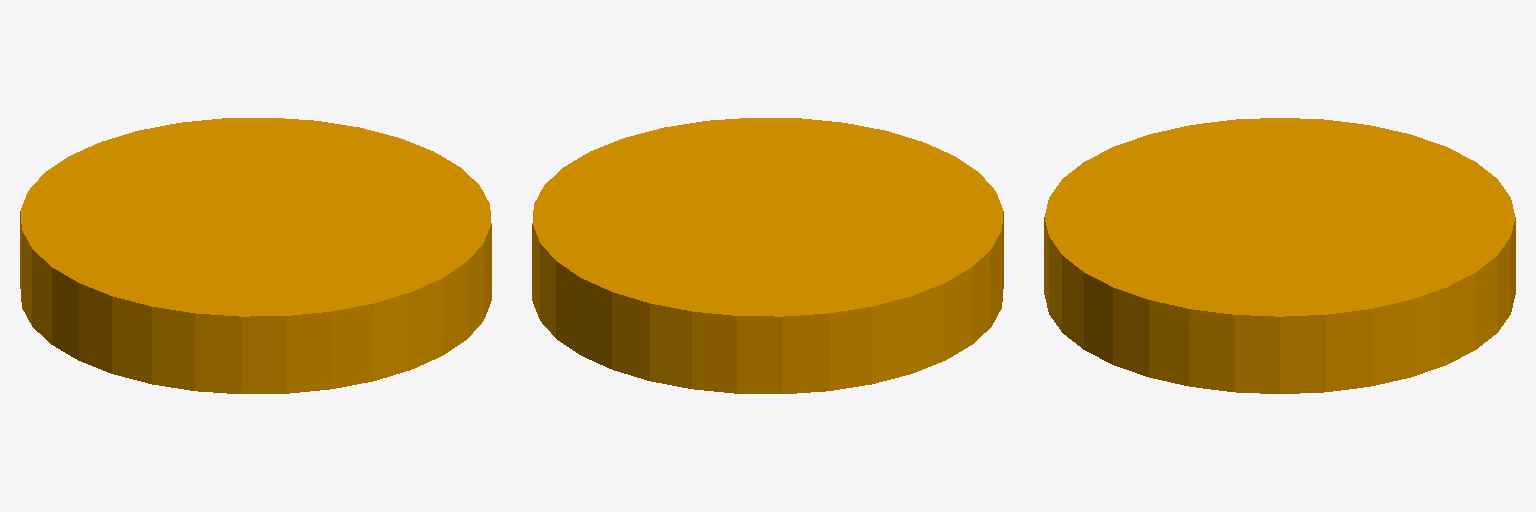
URDF robot description (testing2_cylinder_medium):
<?xml version="1.0" ?>
<robot name="testing2_cylinder_medium">

    <link name="testing2_cylinder_medium">
        <visual>
            <origin rpy="1.5707963267948966 0 0" xyz="0 0 0"/>
            <geometry>
                <mesh filename="obj_files/testing2_cylinder_medium.obj" scale="1 1 1"/>
            </geometry>
        </visual>
        <collision>
            <geometry>
                <mesh filename="obj_files/testing2_cylinder_medium_collision.obj" scale="1 1 1"/>
            </geometry>
        </collision>
    </link>

</robot>

--- Render facts (derived) ---
3 views of the same robot in one strip: view 1: azimuth 30°, elevation 25°; view 2: azimuth 150°, elevation 25°; view 3: azimuth 270°, elevation 25° (orthographic).
Model testing2_cylinder_medium with 1 links and 0 joints (none), rooted at testing2_cylinder_medium, posed all joints at 0.
Visible links, largest first — view 1: testing2_cylinder_medium; view 2: testing2_cylinder_medium; view 3: testing2_cylinder_medium.
Boxes of the visible links, box(x1,y1,x2,y2) form: testing2_cylinder_medium: box(20, 118, 491, 393); testing2_cylinder_medium: box(532, 118, 1003, 393); testing2_cylinder_medium: box(1044, 118, 1515, 393).
Bounding box of the posed robot: 0.3299 × 0.3299 × 0.06 m (x, y, z).
Meshes: 1 distinct files referenced, 1 mesh visuals loaded (1 OBJ).